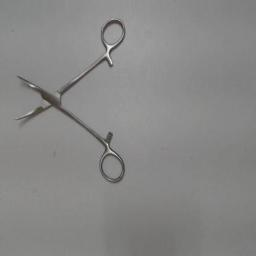Crile Artery Forceps: (10, 14, 128, 188)
